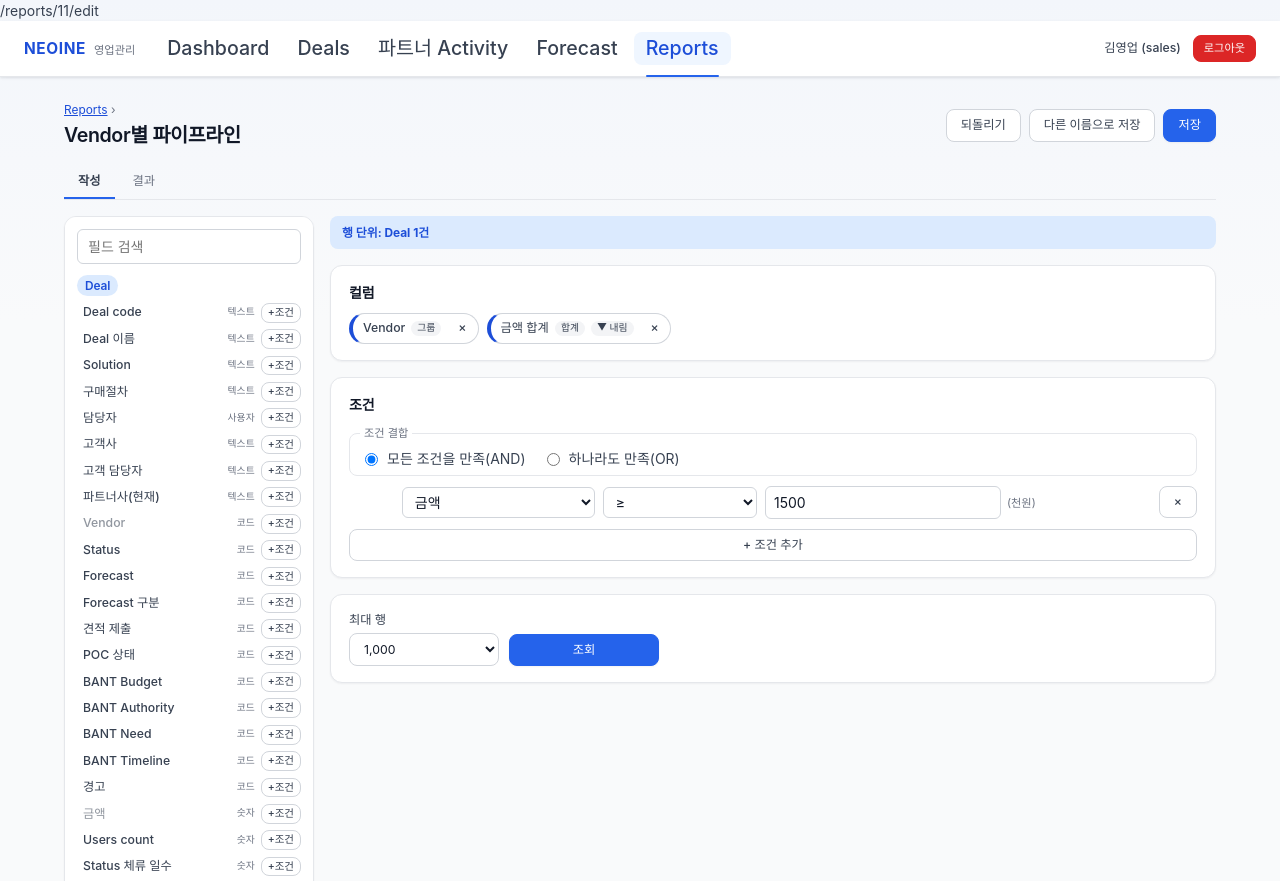
덮어쓰기 revision은 편집을 시작한 값을 따른다 (리뷰 Major 1) › shows the conflict when the detail is fetched again after someone else saved
This screenshot has width=1280, height=881.
Click the tab "작성".
click(89, 182)  # box [64,166,114,199]
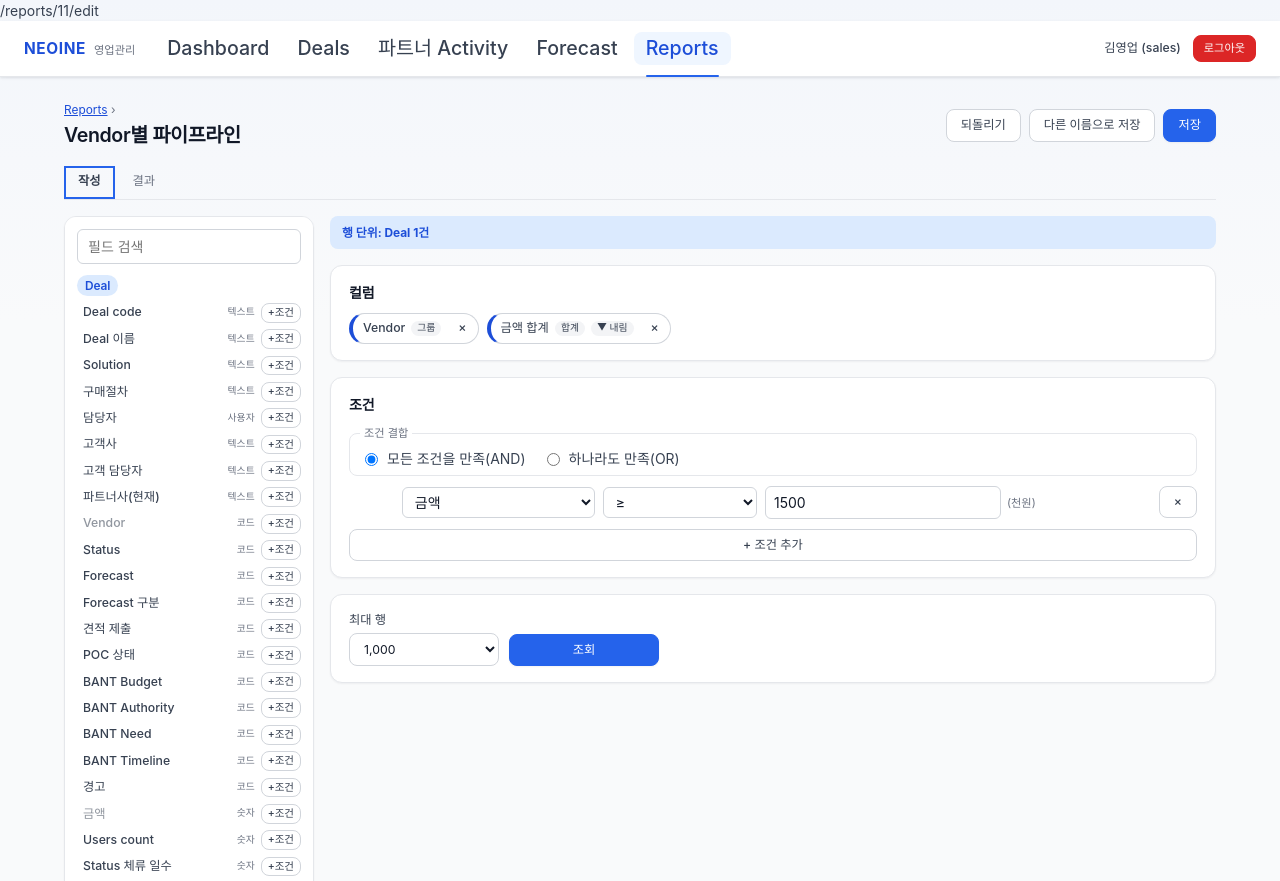
Click the button with aria-label "Deal code 컬럼에 추가".
click(149, 313)  # box [77,300,222,325]
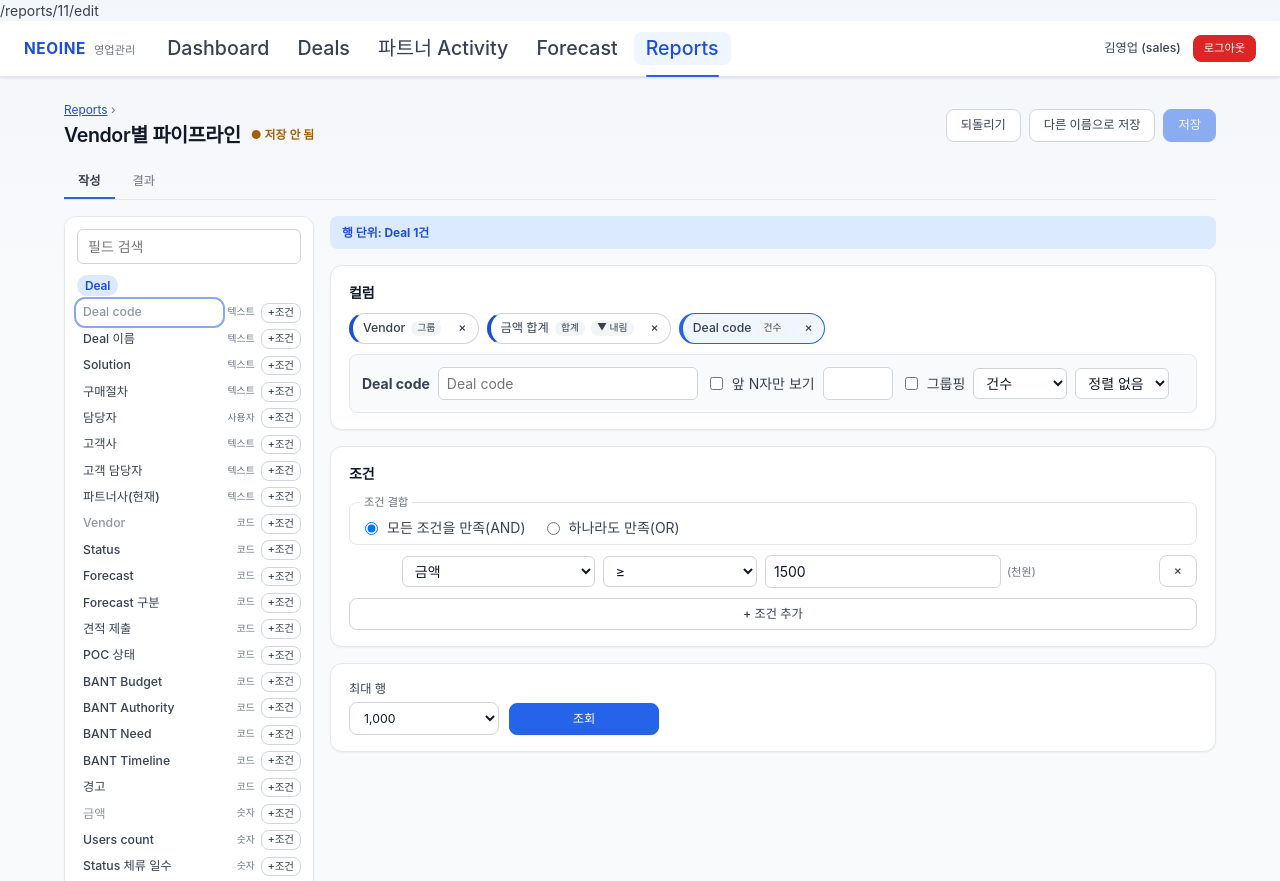
Click the button "Deal code 건수".
click(740, 329)  # box [685,316,796,341]
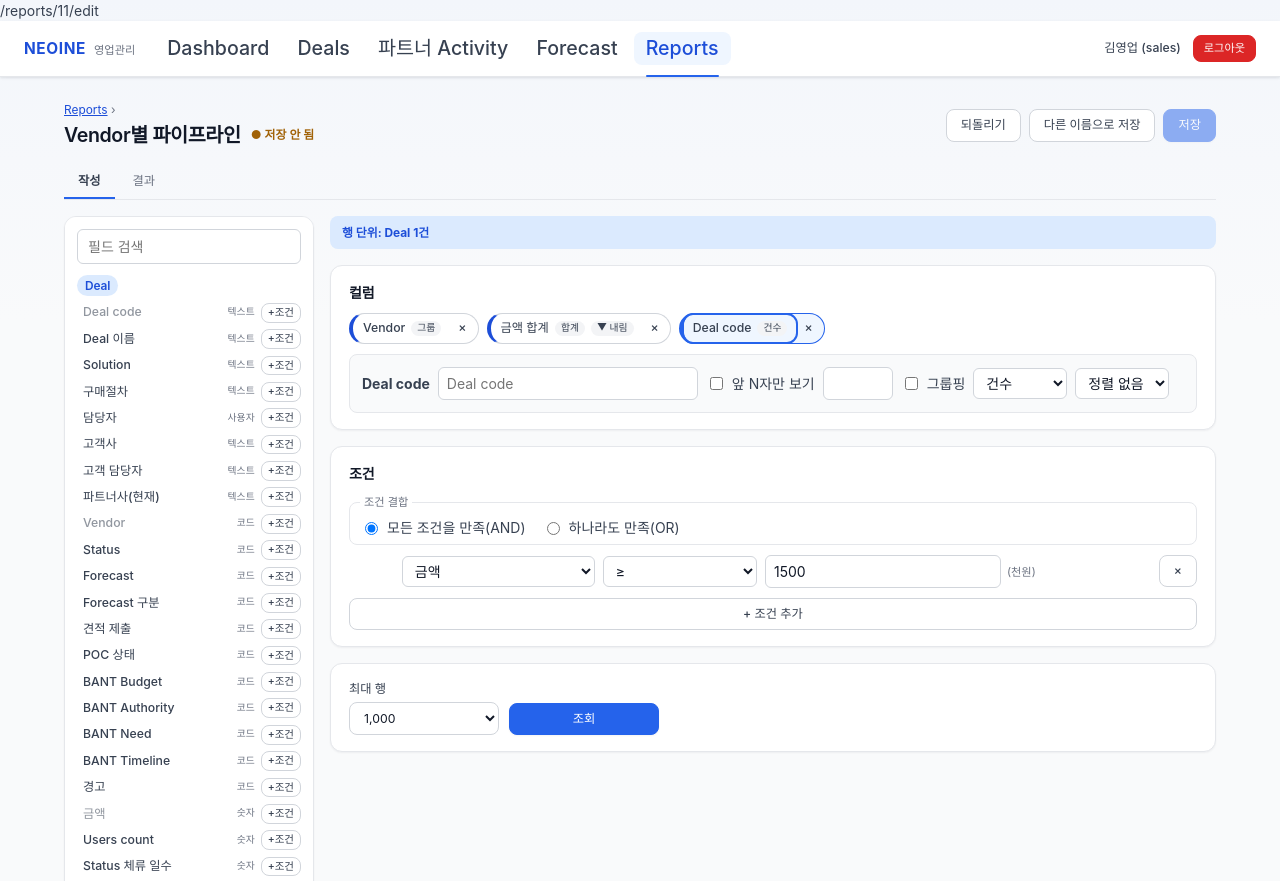
Select "건수" in the dropdown named "집계" at (1020, 383), box [973,368,1067,399]
Click the button "조회".
click(584, 719)  # box [509,703,659,735]
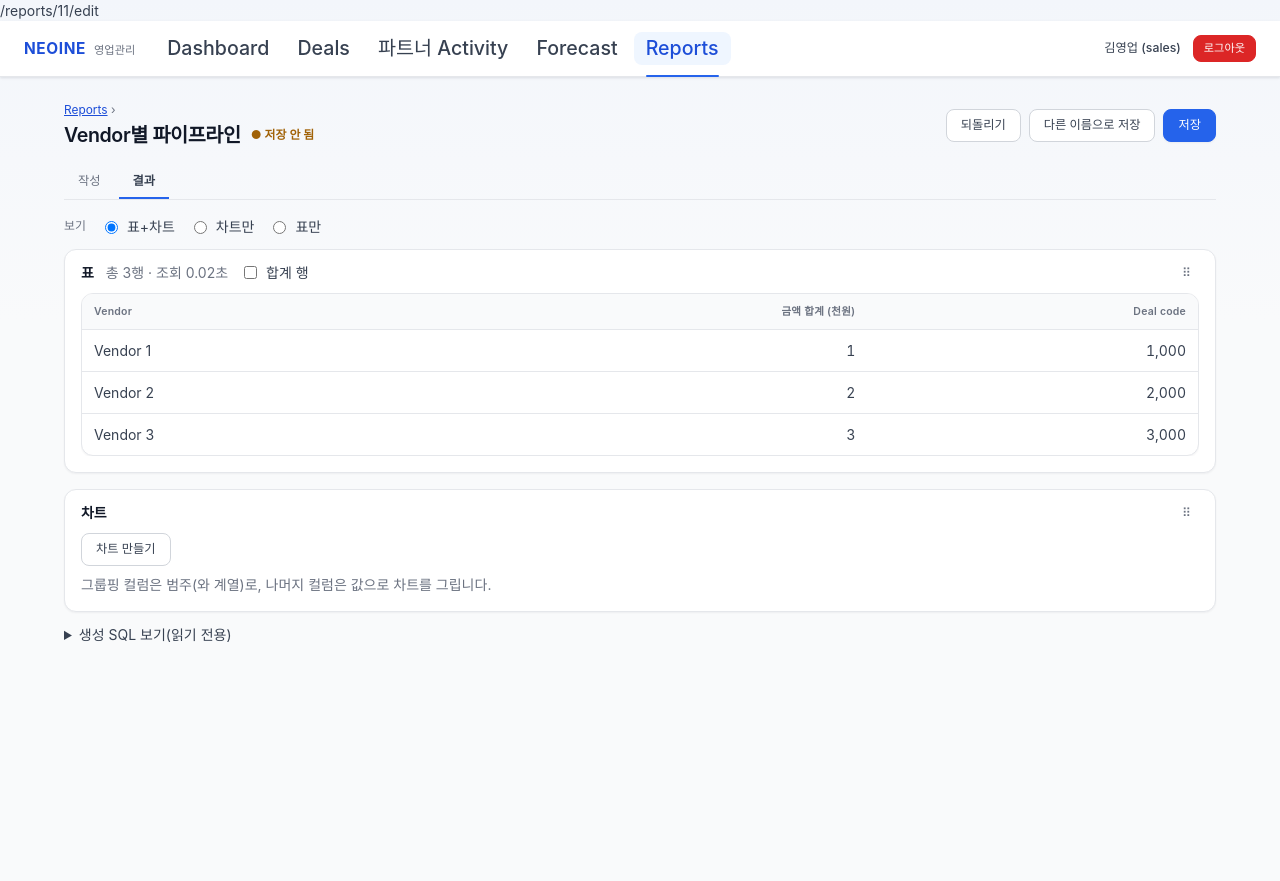
expect the button "저장" is enabled: met
Click the button "저장".
click(1190, 126)  # box [1164,109,1216,142]
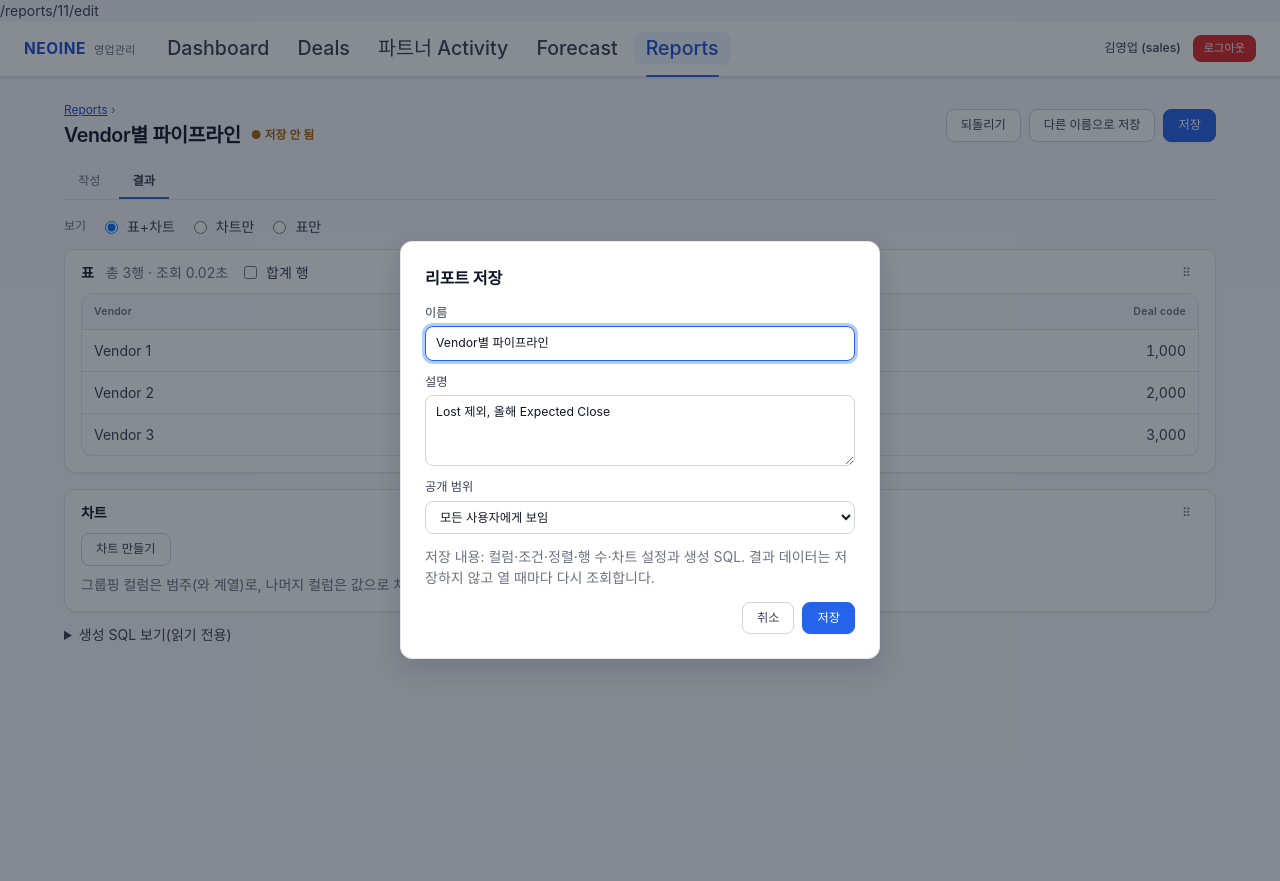
Click the button "저장".
click(829, 618)  # box [802,602,855,634]
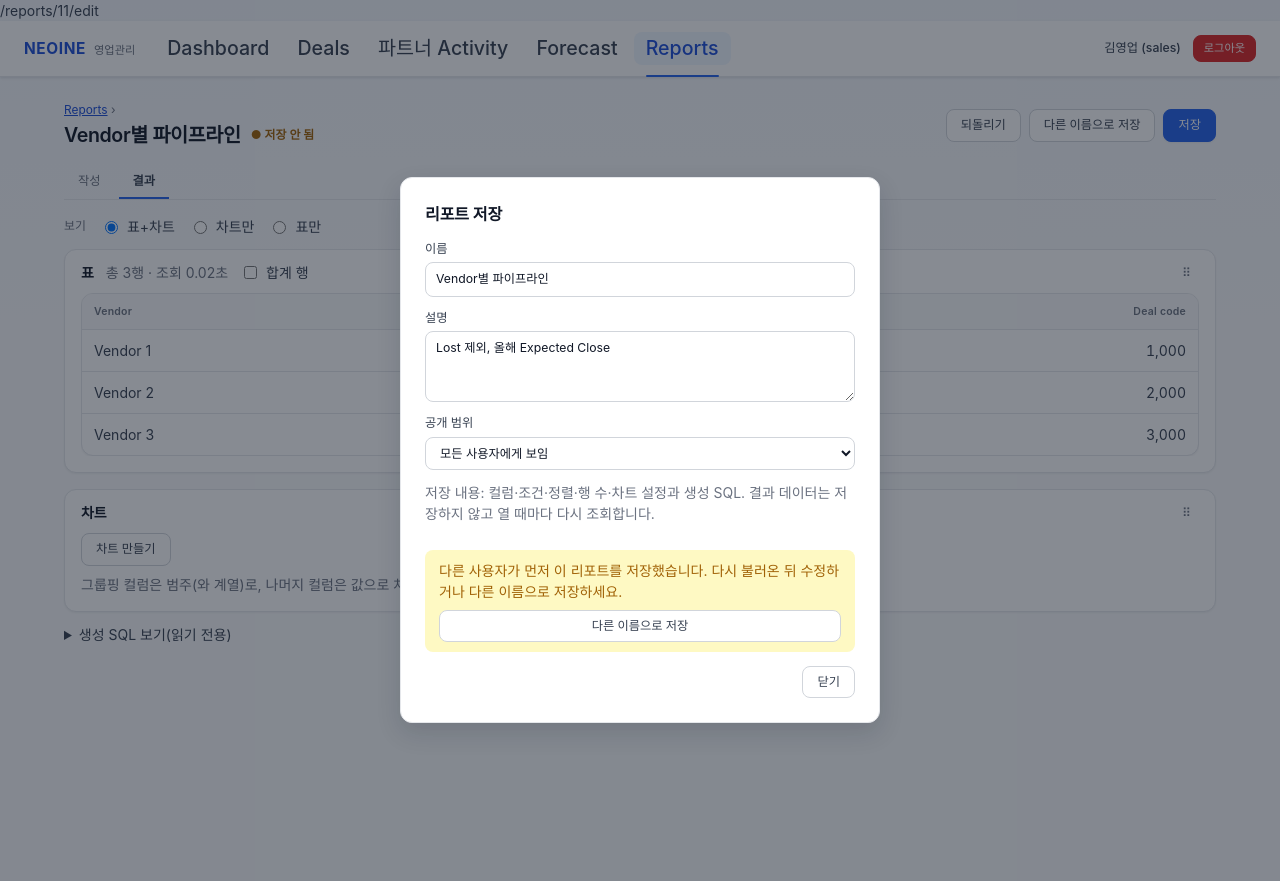
expect the text "● 저장 안 됨" is shown: met, box [251,126,314,144]
expect the message shows "다른 사용자가 먼저 이 리포트를 저장했습니다": met, box [439,562,839,600]
